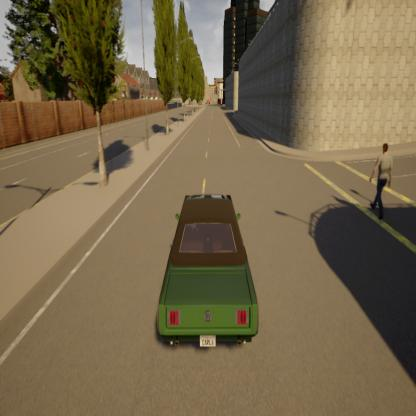Cars: (156, 184, 268, 354)
Pedestrian: (369, 126, 395, 236)
